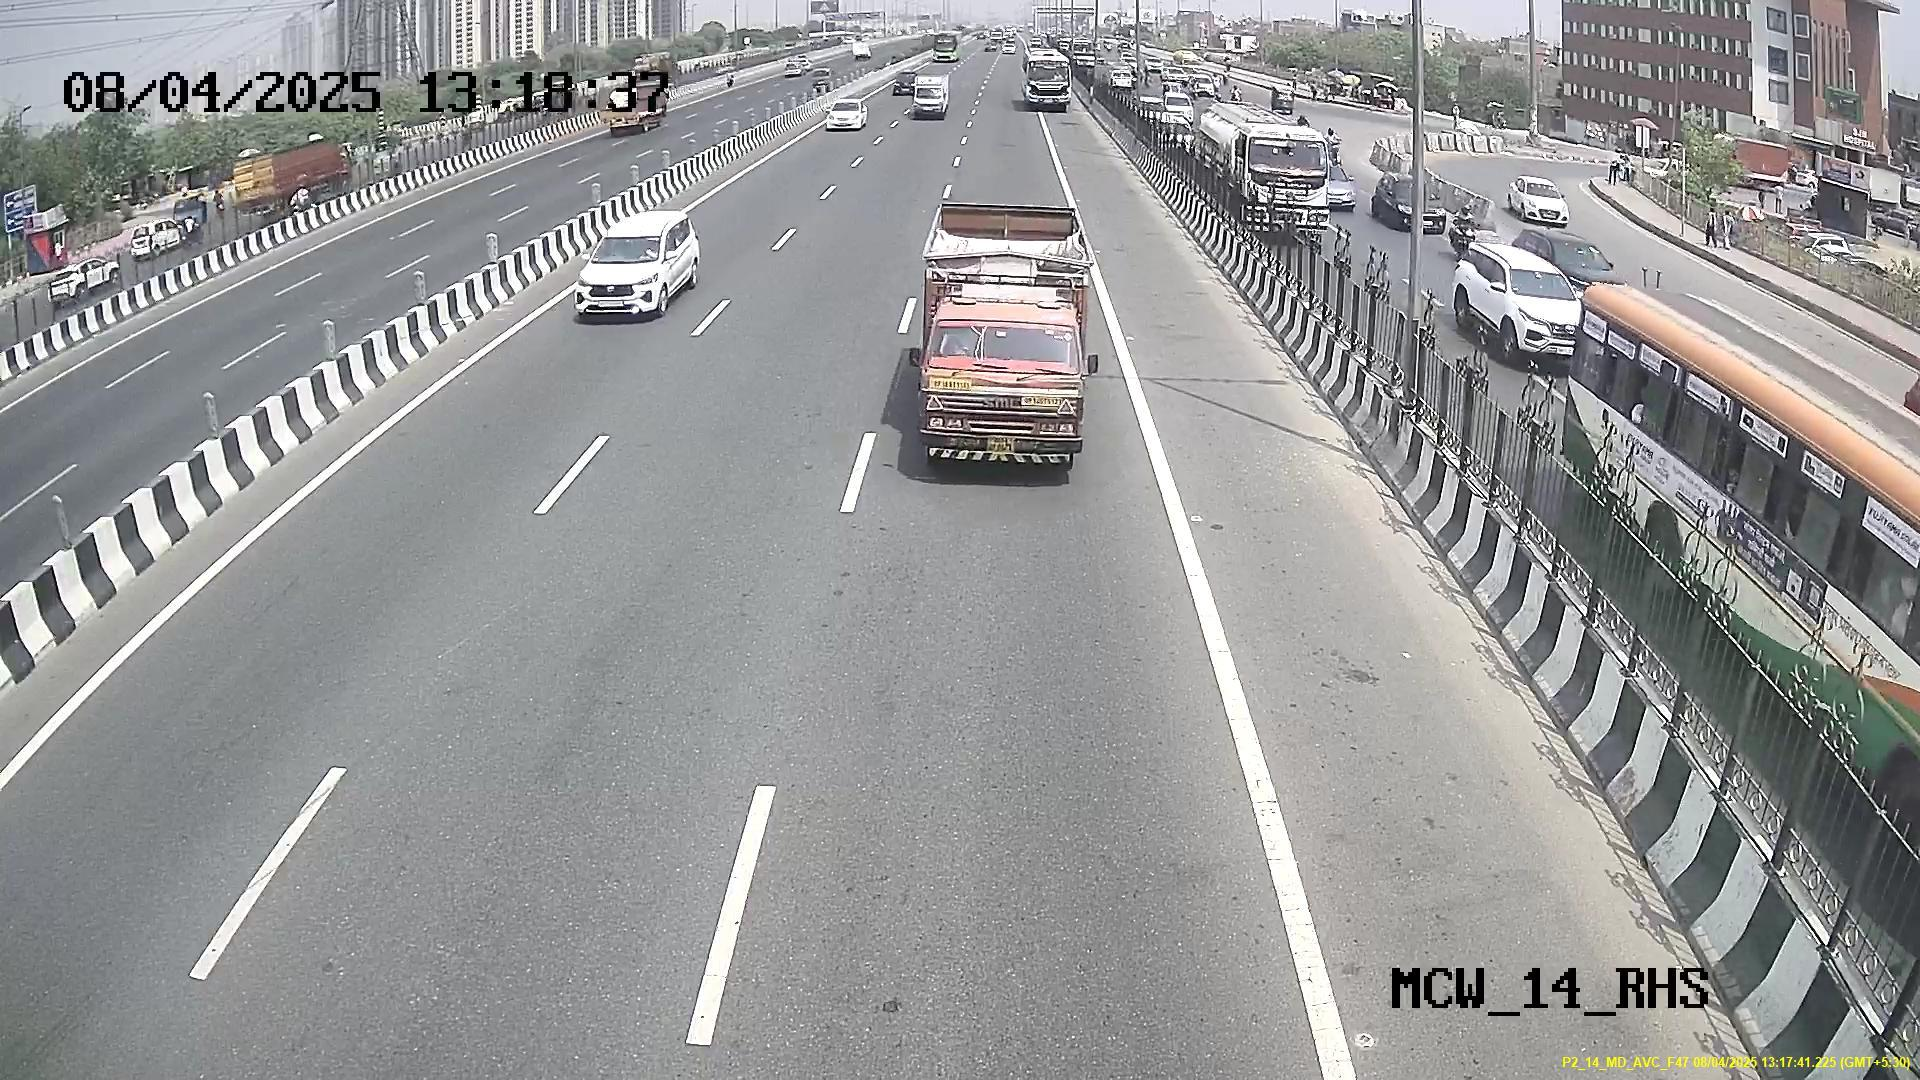car: (572, 214, 683, 324)
lcv: (914, 295, 1092, 476)
